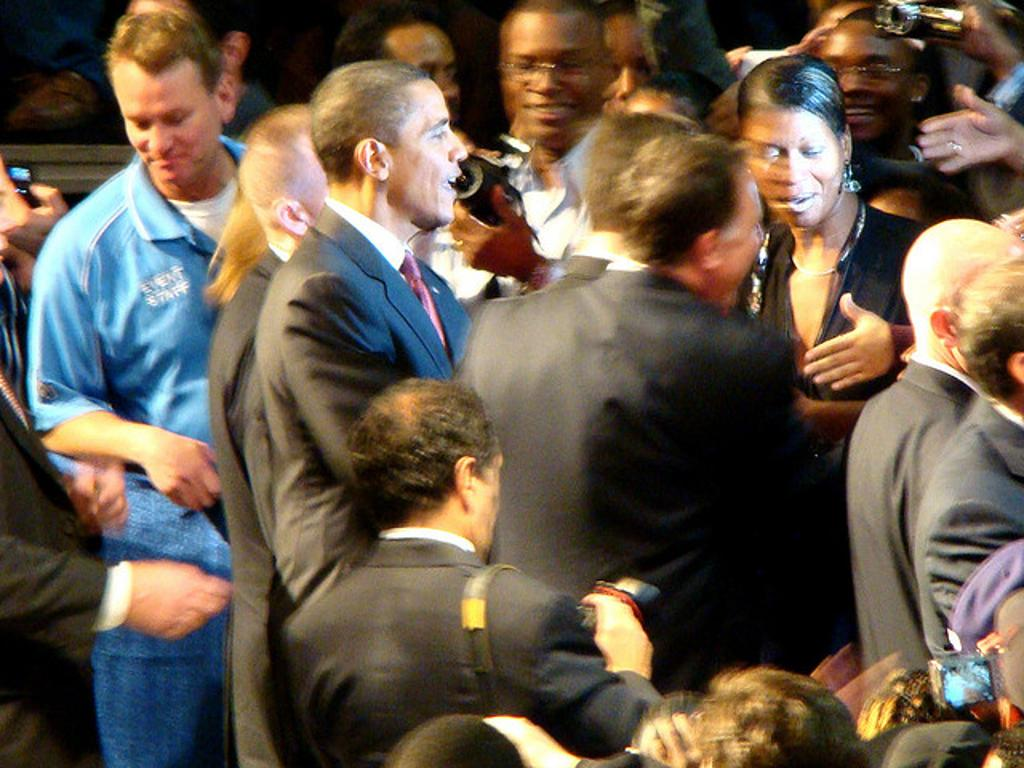face: (502, 8, 604, 142), (116, 56, 220, 186), (820, 22, 904, 148), (396, 80, 466, 226), (750, 112, 840, 224), (382, 24, 456, 142), (592, 20, 656, 138)
